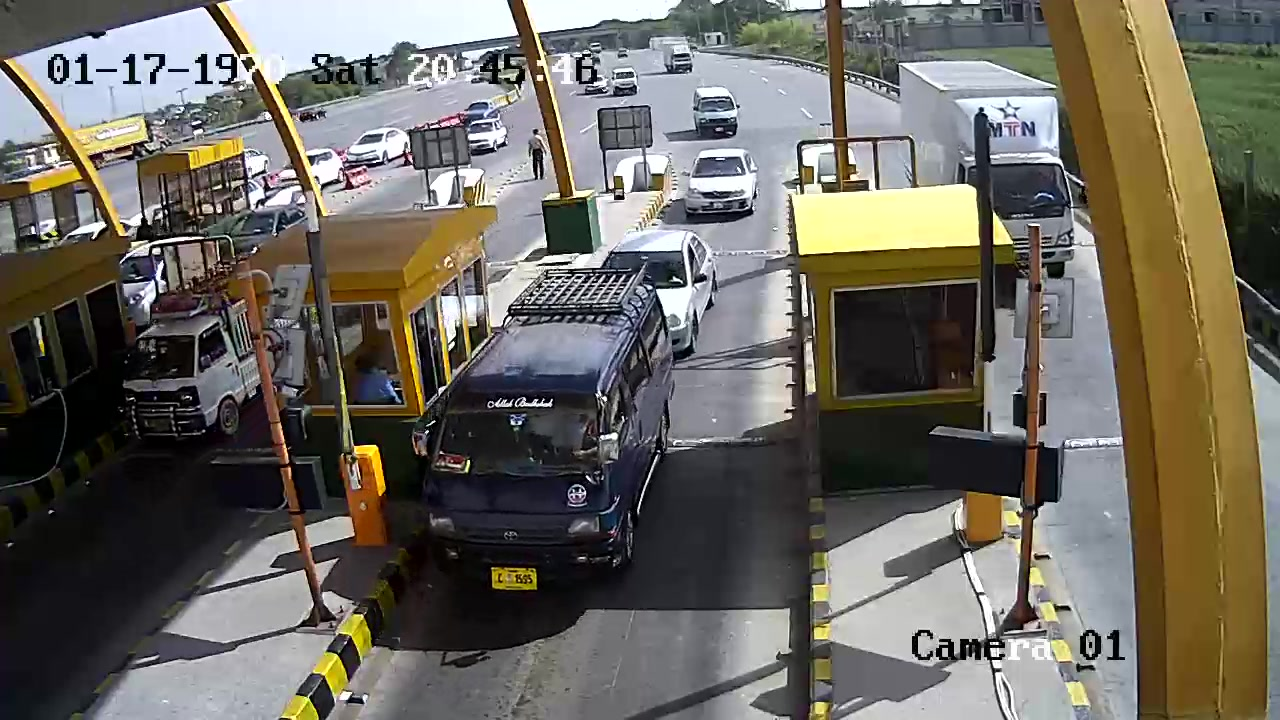F3: (422, 262, 674, 581)
